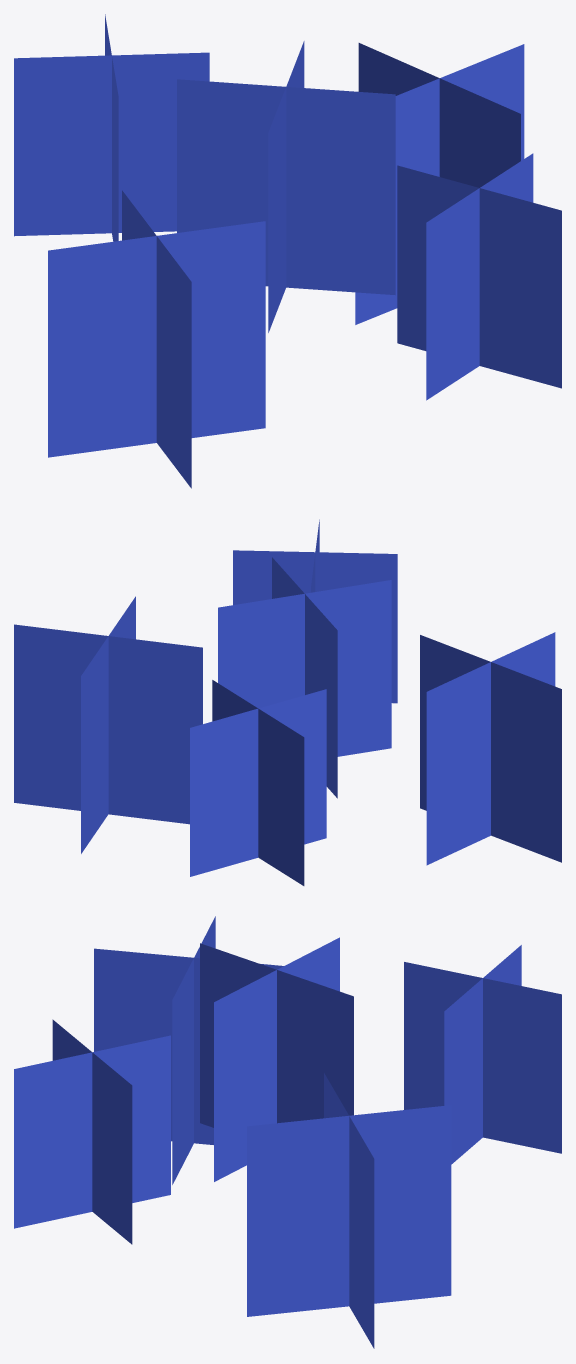
The model's file is BlueStarCreeper.fbx.
3 renders of one model, top to bottom at view 1: azimuth 30°, elevation 25°; view 2: azimuth 150°, elevation 25°; view 3: azimuth 270°, elevation 25°, orthographic. The views are drawn at different scales.
Parts seen in each view (by area): view 1: BlueStarCreeper; view 2: BlueStarCreeper; view 3: BlueStarCreeper.
Boxes of the visible parts, box(x1,y1,x2,y2) form: BlueStarCreeper: box(14, 14, 561, 488); BlueStarCreeper: box(14, 519, 561, 885); BlueStarCreeper: box(14, 916, 561, 1348).
Size of the model in its own units: 0.2788 by 0.1414 by 0.2975.
